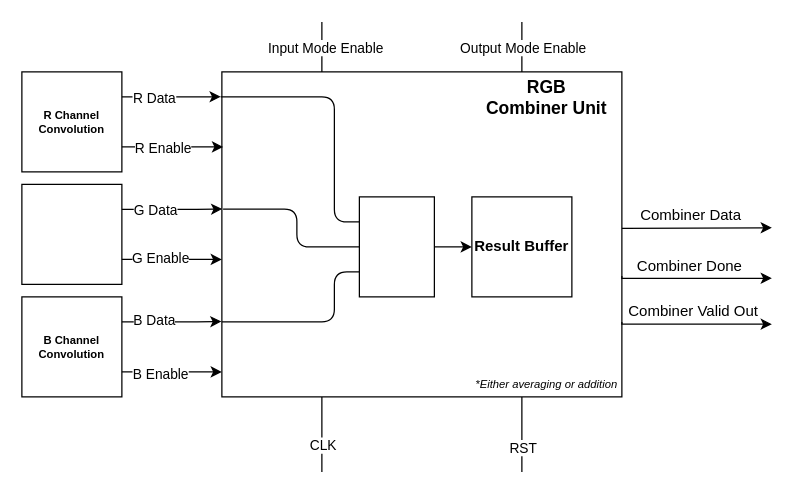
The diagram is 804 pixels wide and 495 high, and some of its shapes have lost their labels. Each missing label, with the centre of its shape:
"G Channel Convolution" belongs at point (71, 233).
"Operator*" belongs at point (396, 246).
